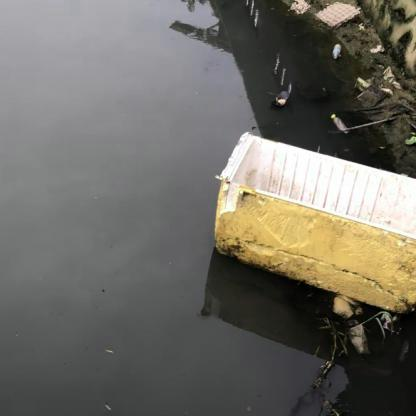Plastic: (329, 110, 351, 136), (329, 40, 342, 63)
Trash: (209, 132, 416, 312)
